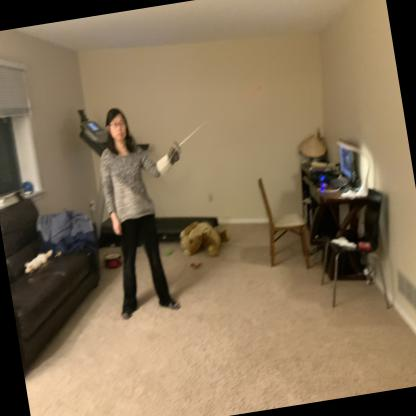foil-tip: (251, 78, 264, 100)
hand-and-foil: (142, 70, 278, 176)
